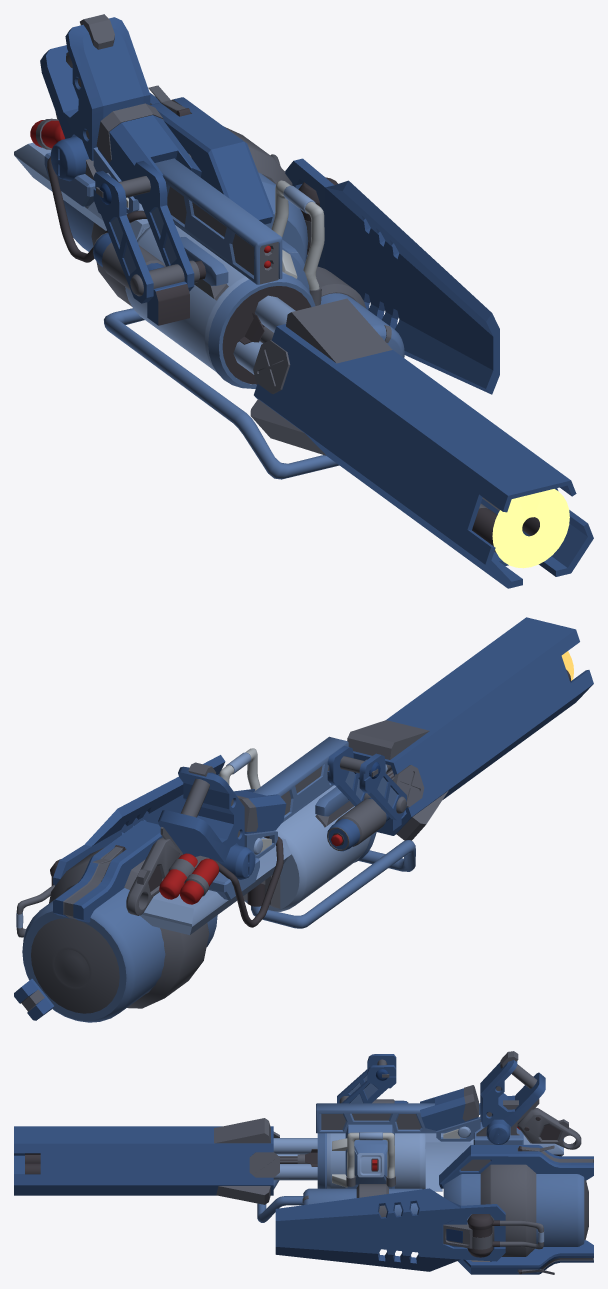
3 views of the same model, one above another, from view 1: azimuth 30°, elevation 25°; view 2: azimuth 150°, elevation 25°; view 3: azimuth 270°, elevation 25° (orthographic). The views are drawn at different scales.
Visible parts, largest first — view 1: Cylinder, Cube.024, Cube.002, Cube.010, Cube.009, Plane.002, Cube.011, Circle, Cube.004, Cylinder.003, Cube.056, Cylinder.049 (+21 smaller); view 2: Cylinder, Cylinder.005, Cylinder.044, Cylinder.003, Cube.002, Cube.009, Cylinder.030, Cube.024, Cube.010, Plane.002, Cube, Cube.011 (+17 smaller); view 3: Cylinder, Cube.024, Cylinder.005, Cylinder.030, Cube.009, Cube.010, Cylinder.003, Cube.002, Cube.008, Plane, Cube.006, Cube.056 (+23 smaller).
Boxes of the visible parts, bbox=[...] form: Cylinder: bbox=[254, 324, 593, 588]; Cube.024: bbox=[285, 158, 499, 394]; Cube.002: bbox=[40, 17, 150, 160]; Cube.010: bbox=[155, 158, 282, 284]; Cube.009: bbox=[150, 93, 273, 224]; Plane.002: bbox=[104, 308, 339, 479]; Cube.011: bbox=[286, 298, 392, 363]; Circle: bbox=[492, 489, 569, 568]; Cube.004: bbox=[101, 204, 194, 303]; Cylinder.003: bbox=[125, 225, 287, 372]; Cube.056: bbox=[98, 115, 201, 199]; Cylinder.049: bbox=[208, 273, 315, 388]; Cylinder: bbox=[353, 617, 593, 835]; Cylinder.005: bbox=[22, 884, 217, 1022]; Cylinder.044: bbox=[31, 918, 119, 1013]; Cylinder.003: bbox=[244, 785, 370, 911]; Cube.002: bbox=[158, 766, 244, 862]; Cube.009: bbox=[53, 820, 162, 922]; Cylinder.030: bbox=[49, 847, 209, 1008]; Cube.024: bbox=[53, 755, 225, 885]; Cube.010: bbox=[253, 736, 348, 838]; Plane.002: bbox=[251, 840, 415, 928]; Cube: bbox=[140, 856, 288, 934]; Cube.011: bbox=[347, 720, 429, 759]; Cylinder: bbox=[14, 1126, 273, 1195]; Cube.024: bbox=[275, 1188, 505, 1271]; Cylinder.005: bbox=[443, 1174, 584, 1246]; Cylinder.030: bbox=[480, 1164, 536, 1256]; Cube.009: bbox=[439, 1145, 593, 1188]; Cube.010: bbox=[316, 1103, 458, 1133]; Cylinder.003: bbox=[327, 1133, 425, 1189]; Cube.002: bbox=[480, 1060, 545, 1127]; Cube.008: bbox=[458, 1240, 593, 1274]; Plane: bbox=[517, 1108, 581, 1149]; Cube.006: bbox=[425, 1128, 473, 1191]; Cube.056: bbox=[420, 1088, 478, 1130].
Bounding box in the file's own units: 569 × 537 × 1561.
